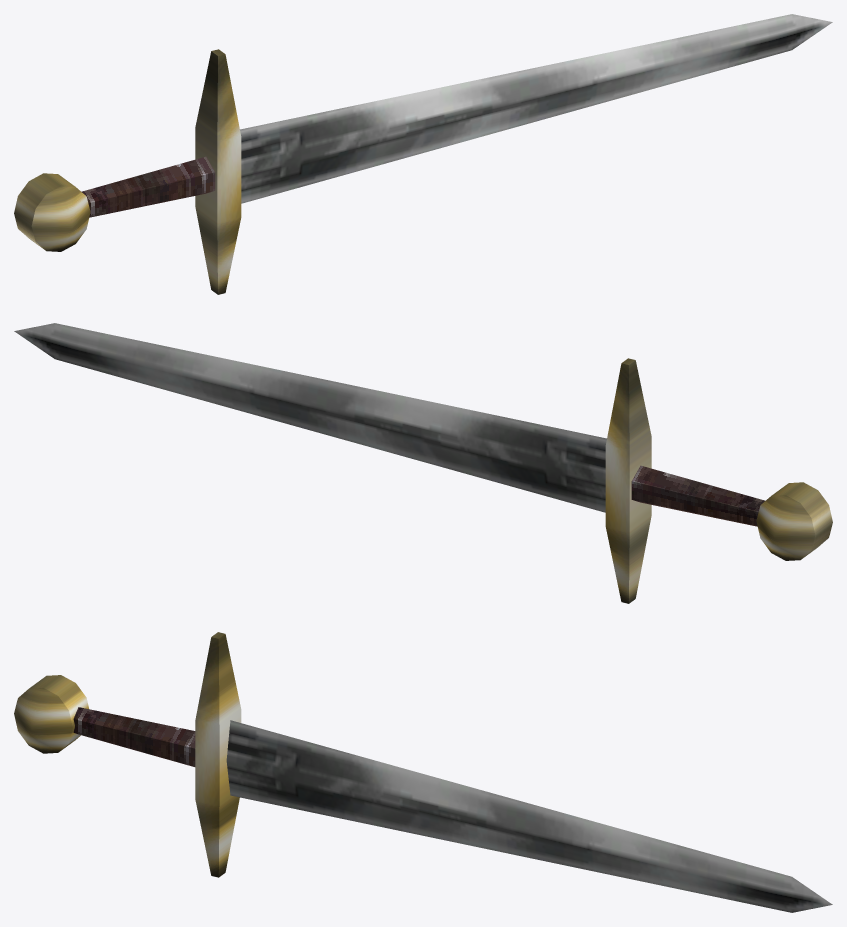
3 renders of one model, top to bottom at view 1: azimuth 30°, elevation 25°; view 2: azimuth 150°, elevation 25°; view 3: azimuth 330°, elevation 25°, orthographic.
Parts seen in each view (by area): view 1: it10655; view 2: it10655; view 3: it10655.
Boxes of the visible parts, bbox=[...] form: it10655: bbox=[14, 14, 832, 294]; it10655: bbox=[14, 323, 832, 603]; it10655: bbox=[14, 632, 832, 912].
Size of the model in its own units: 3.02 by 0.8494 by 0.2612.
2 materials, 2 textured.
